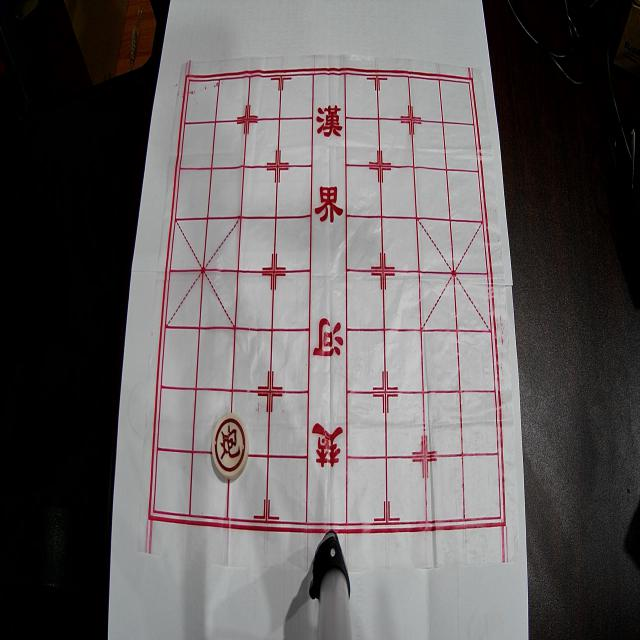red-cannon: (212, 413, 249, 479)
